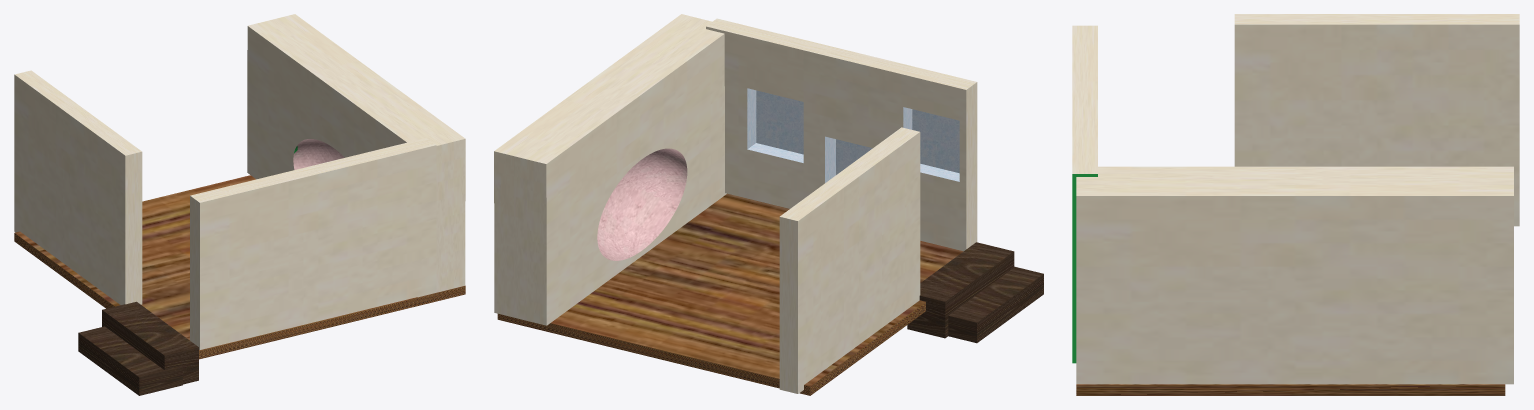
File: תוספת.glb
3 renders of one model, left to right at view 1: azimuth 30°, elevation 25°; view 2: azimuth 150°, elevation 25°; view 3: azimuth 270°, elevation 25°, orthographic. The views are drawn at different scales.
Size of the model in its own units: 0.1122 by 0.0595 by 0.1032.
6 materials, 5 textured.
